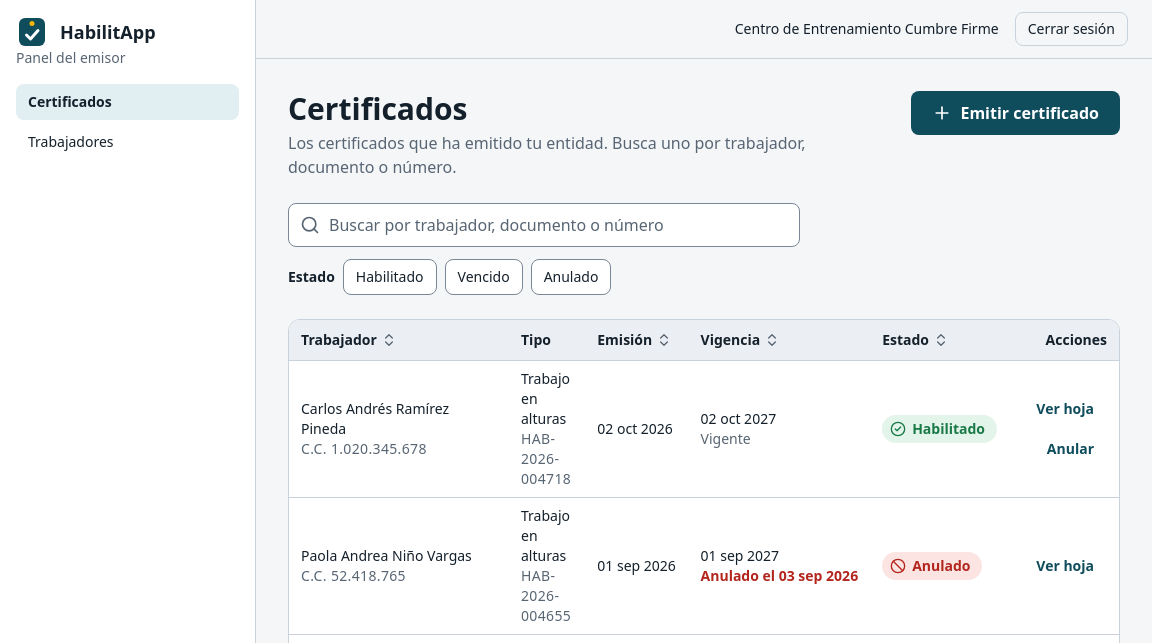
Scenario: CertificatesPage › filters by one or more statuses and clears them
The image size is (1152, 643).
Click the button "Anulado". click: (571, 277)
box: x1=531 y1=259 x2=611 y2=295
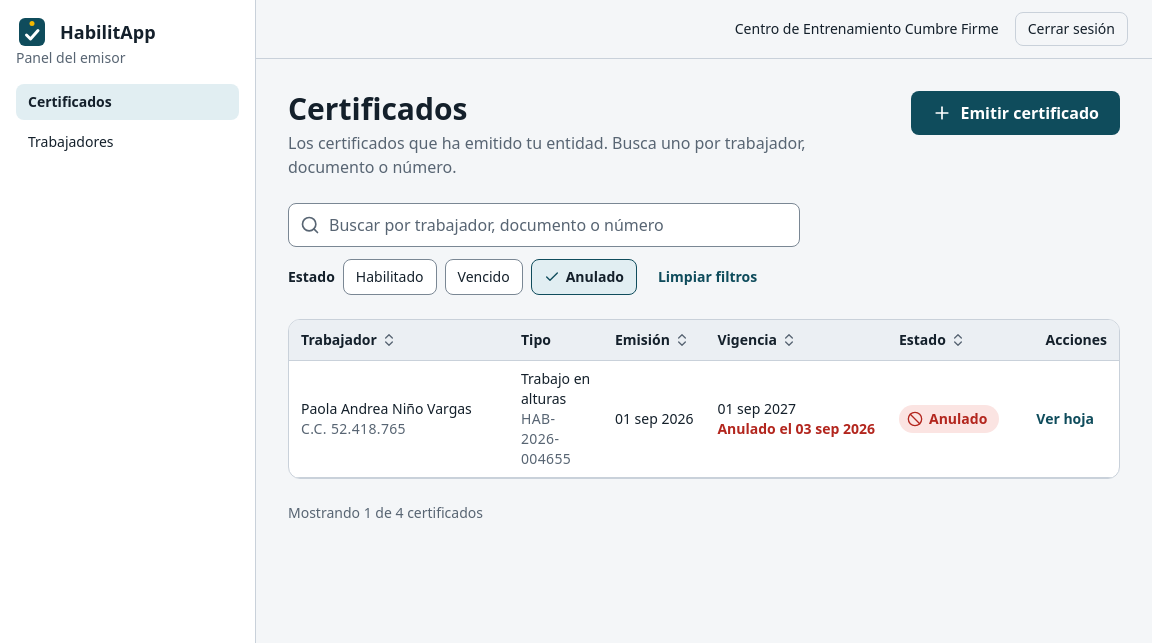
Result: the button "Anulado" is pressed at x1=531 y1=259 x2=637 y2=295
Click the button "Vencido". click: (484, 277)
box: x1=444 y1=259 x2=523 y2=295
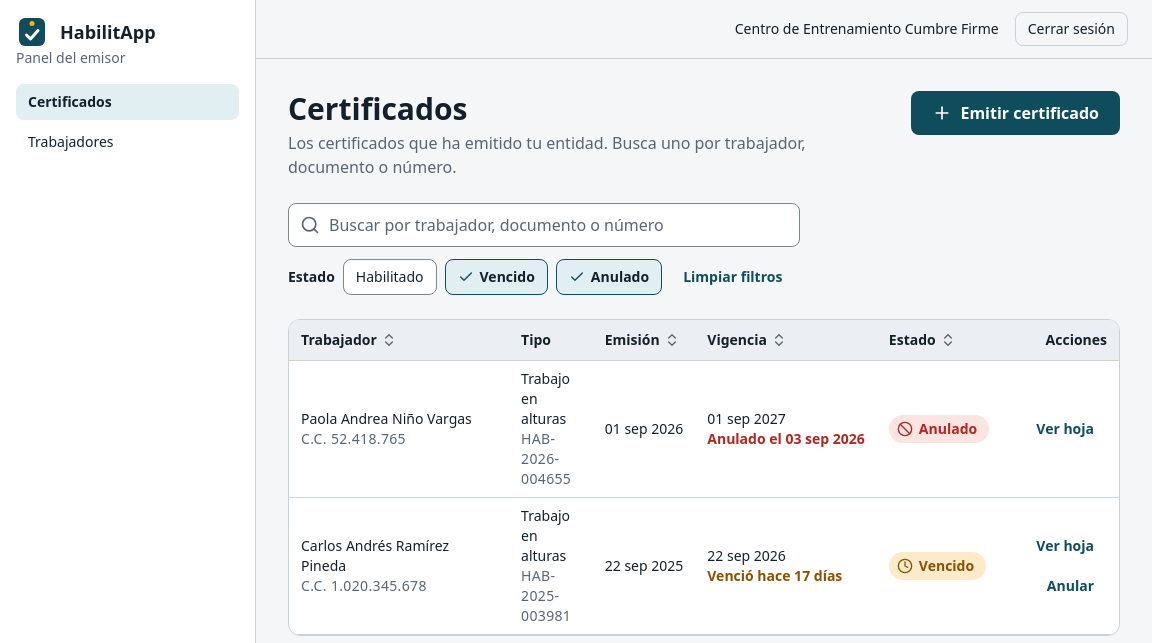
Click the button "Limpiar filtros". click: (733, 277)
box: x1=670 y1=259 x2=795 y2=295
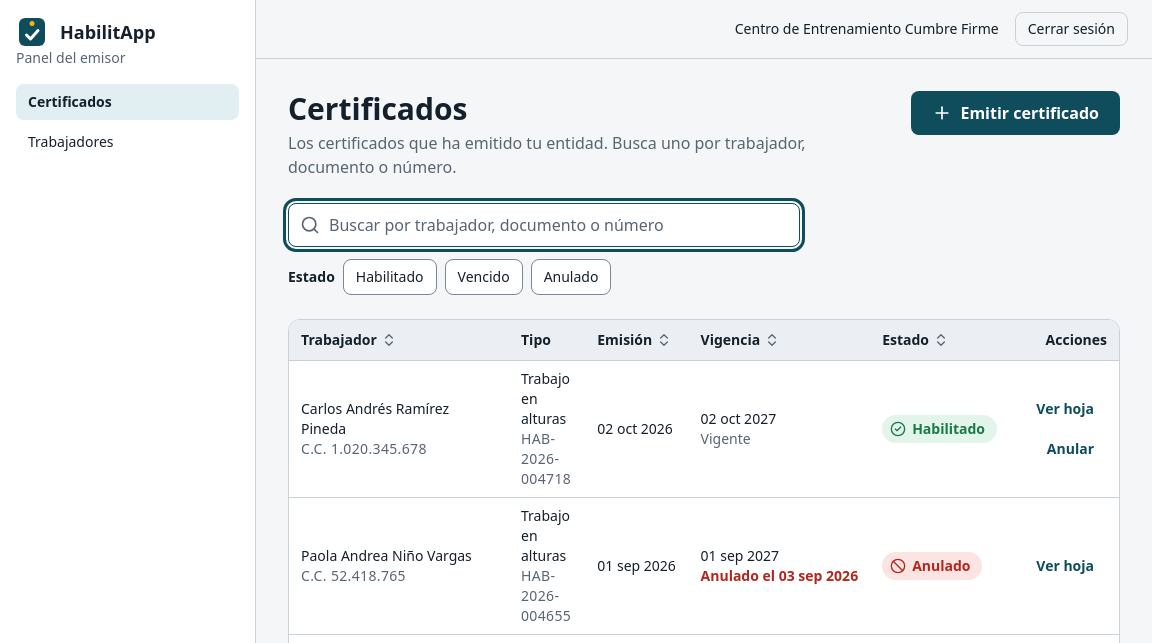
Result: the button "Limpiar filtros" is gone
